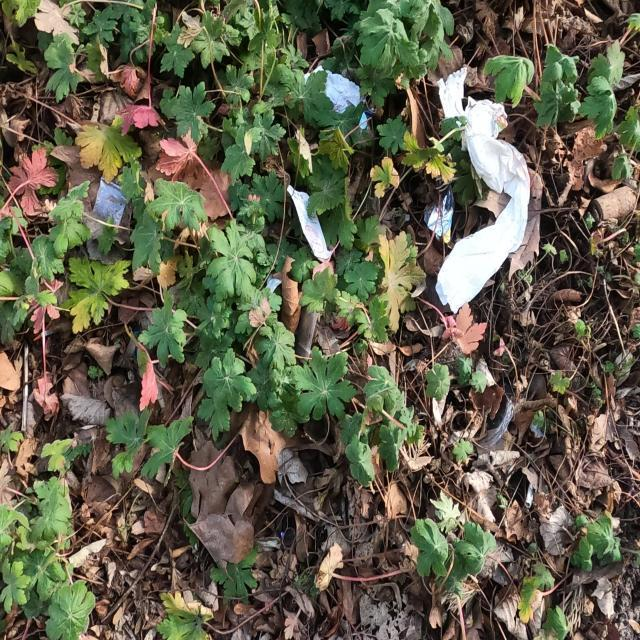Paper: (433, 62, 535, 315), (284, 182, 334, 263)
